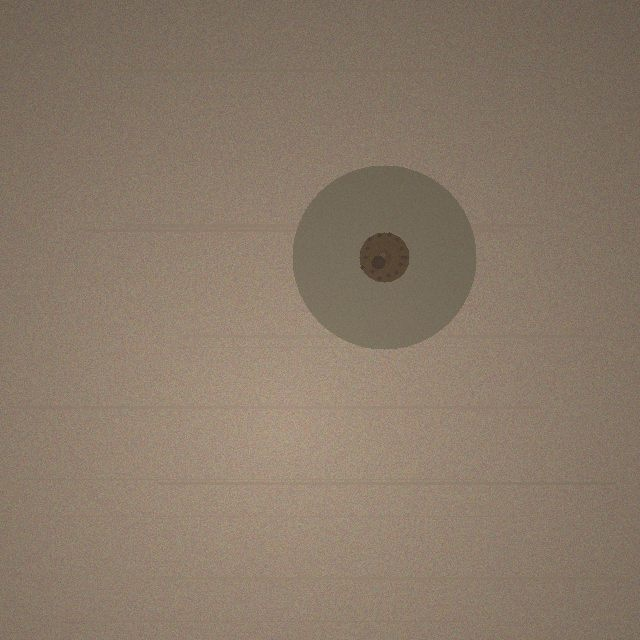cold_weld: (292, 165, 476, 349)
